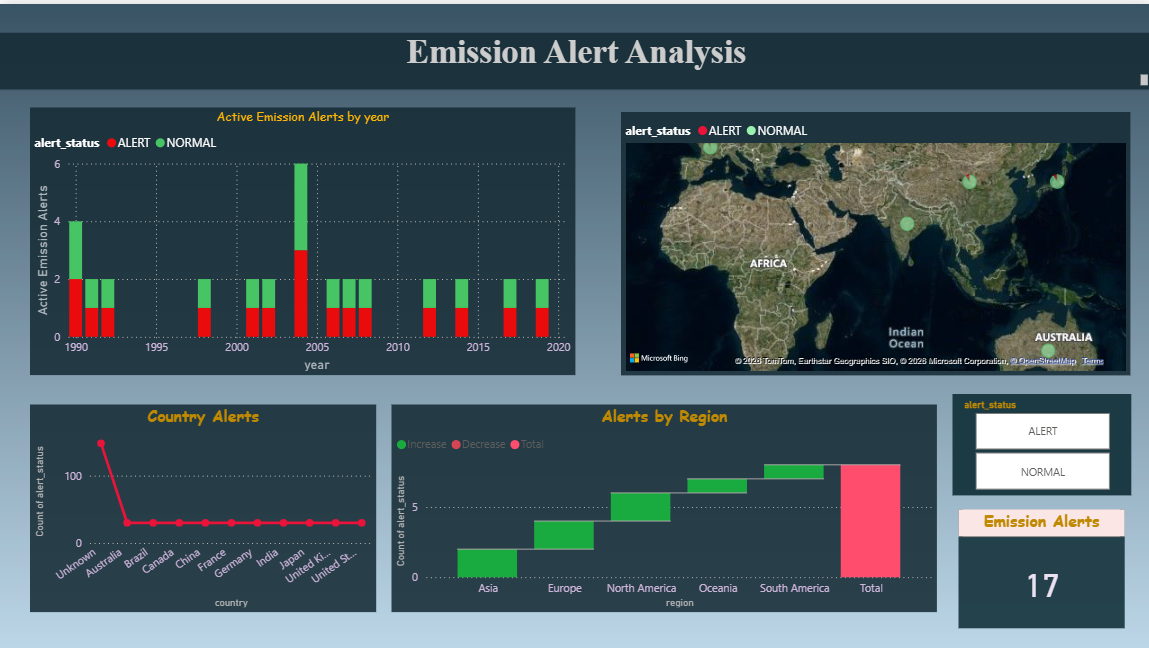

The dashboard page shown, as its layout file describes it:
{"tool":"powerbi","page":{"name":"Emission Alerts","canvas":[1280,720],"ordinal":3},"visuals":[{"type":"columnChart","title":"Active Emission Alerts by year","fields":{"Category":["dlt_gold_emission_alerts.year"],"Series":["dlt_gold_emission_alerts.alert_status"],"Y":["dlt_gold_emission_alerts.Active Emission Alerts"]},"box":[33.4,114.5,606,297.4],"z":0},{"type":"card","title":"Emission Alerts","fields":{"Values":["dlt_gold_emission_alerts.Active Emission Alerts"]},"box":[1065.7,561.5,184.5,132],"z":1},{"type":"lineChart","title":"Country Alerts","fields":{"Y":["CountNonNull(dlt_gold_emission_alerts.alert_status)"],"Category":["dlt_gold_emission_alerts.country"]},"box":[33.4,445.4,384.9,230.6],"z":2},{"type":"waterfallChart","title":"Alerts by Region","fields":{"Category":["dlt_gold_emission_alerts.region"],"Y":["Count(dlt_gold_emission_alerts.alert_status)"]},"box":[434.2,445.4,606,230.6],"z":3},{"type":"map","fields":{"Category":["dlt_gold_emission_alerts.country"],"Series":["dlt_gold_emission_alerts.alert_status"],"Size":["Sum(dlt_gold_emission_alerts.threshold_value)"]},"box":[690.3,119.3,566.3,292.7],"z":4},{"type":"slicer","fields":{"Values":["dlt_gold_emission_alerts.alert_status"]},"box":[1057.8,432.6,198.8,112.9],"z":5},{"type":"textbox","title":"Emission Alert Analysis","box":[0,31.8,1280.4,63.6],"z":6}]}

Visuals, with their boxes in screenshot pixels (x1, y1, x2, y2), scaled from the page's 1280x720 canvas onto the 1149x648 screenshot:
"Active Emission Alerts by year" columnChart: {"x1": 30, "y1": 103, "x2": 574, "y2": 371}
"Emission Alerts" card: {"x1": 957, "y1": 505, "x2": 1122, "y2": 624}
"Country Alerts" lineChart: {"x1": 30, "y1": 401, "x2": 375, "y2": 608}
"Alerts by Region" waterfallChart: {"x1": 390, "y1": 401, "x2": 934, "y2": 608}
map - dlt_gold_emission_alerts.country x dlt_gold_emission_alerts.alert_status: {"x1": 620, "y1": 107, "x2": 1128, "y2": 371}
slicer - dlt_gold_emission_alerts.alert_status: {"x1": 950, "y1": 389, "x2": 1128, "y2": 491}
"Emission Alert Analysis" textbox: {"x1": 0, "y1": 29, "x2": 1148, "y2": 86}
